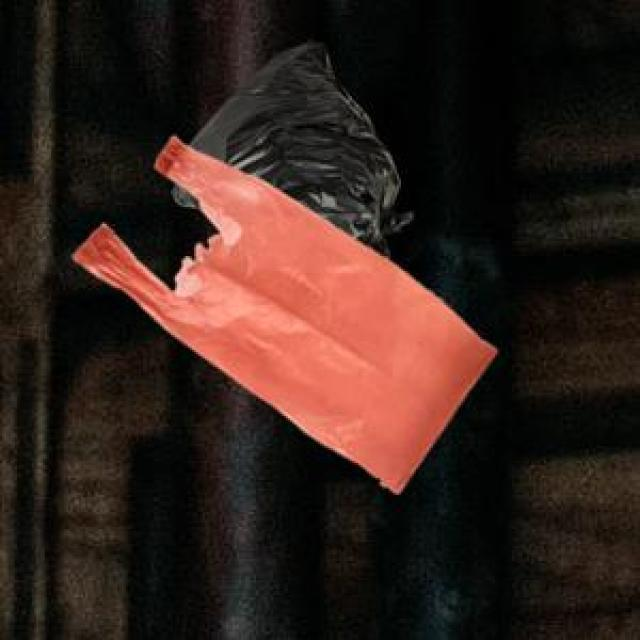miscellaneous trash: (169, 36, 408, 256)
